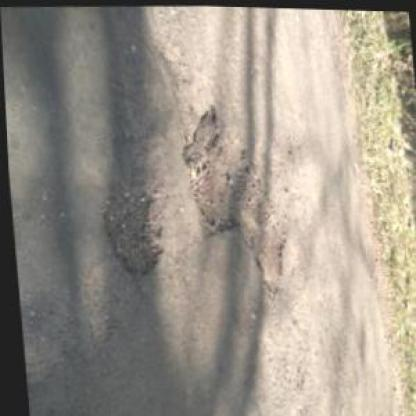pothole: (180, 116, 296, 297), (94, 174, 166, 282)
